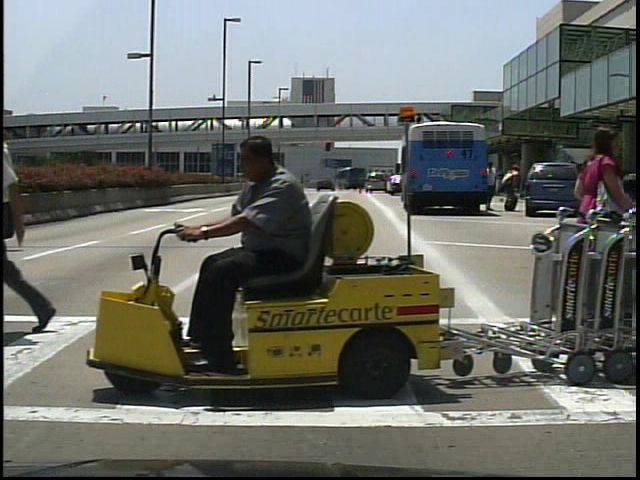person: (189, 134, 319, 373), (8, 100, 80, 337), (568, 120, 631, 351), (480, 162, 501, 215), (580, 164, 601, 214), (504, 164, 523, 217)
